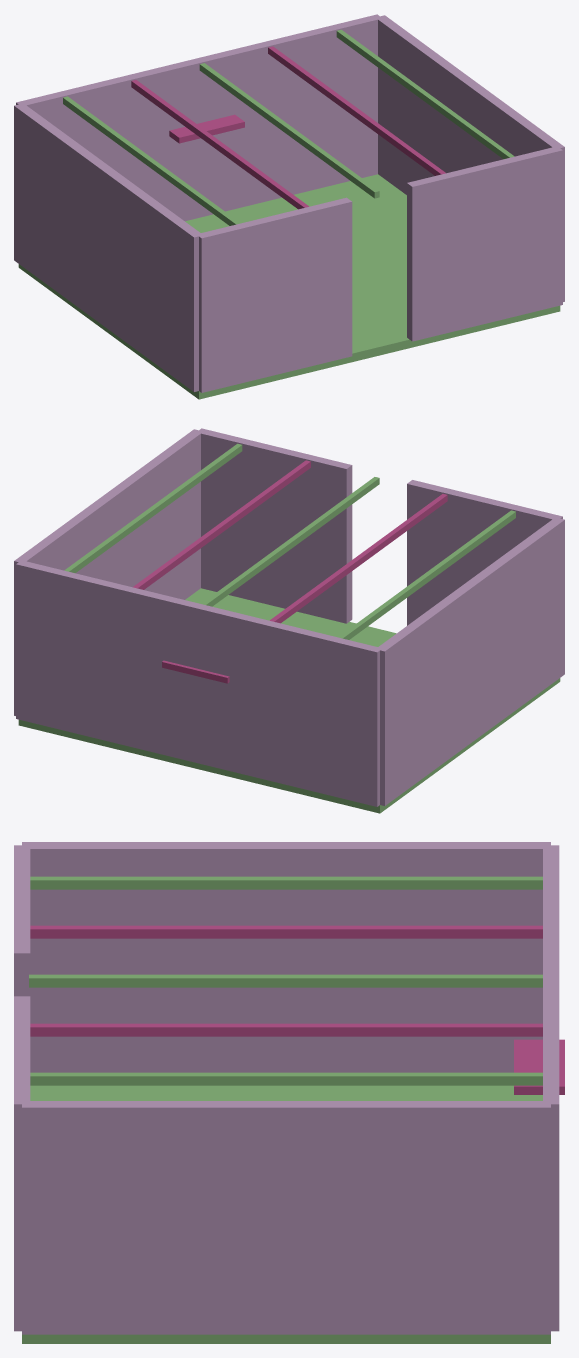
The model's file is bubblecap_house.glb.
The picture shows the model from 3 angles, top to bottom: view 1: azimuth 30°, elevation 25°; view 2: azimuth 150°, elevation 25°; view 3: azimuth 270°, elevation 25°; orthographic projection. The views are drawn at different scales.
Visible parts, largest first — view 1: wall_north, wall_west, wall_south_right, wall_south_left, wall_east, floor, ceiling_beam_0, ceiling_beam_2, ceiling_beam_-1, ceiling_beam_1, ceiling_beam_-2, purpose_mushroom_house; view 2: wall_north, wall_west, wall_south_right, wall_east, wall_south_left, floor, ceiling_beam_0, ceiling_beam_2, ceiling_beam_-1, ceiling_beam_1, ceiling_beam_-2, purpose_mushroom_house; view 3: wall_east, wall_west, floor, ceiling_beam_0, ceiling_beam_-2, ceiling_beam_-1, ceiling_beam_1, ceiling_beam_2, wall_north, wall_south_right, wall_south_left, purpose_mushroom_house.
Boxes of the visible parts, x1,y1,x2,y2 form: wall_north: [16, 14, 382, 221]; wall_west: [14, 104, 203, 391]; wall_south_right: [407, 146, 562, 341]; wall_south_left: [199, 197, 352, 392]; wall_east: [377, 15, 564, 301]; floor: [18, 174, 560, 399]; ceiling_beam_0: [199, 63, 379, 198]; ceiling_beam_2: [336, 29, 514, 159]; ceiling_beam_-1: [131, 80, 308, 209]; ceiling_beam_1: [268, 46, 445, 175]; ceiling_beam_-2: [63, 96, 240, 225]; purpose_mushroom_house: [169, 114, 244, 143]; wall_north: [16, 561, 382, 806]; wall_west: [376, 517, 564, 805]; wall_south_right: [197, 428, 352, 623]; wall_east: [14, 429, 203, 715]; wall_south_left: [407, 480, 562, 625]; floor: [18, 588, 560, 813]; ceiling_beam_0: [201, 477, 379, 606]; ceiling_beam_2: [64, 443, 242, 573]; ceiling_beam_-1: [270, 494, 447, 623]; ceiling_beam_1: [133, 460, 310, 589]; ceiling_beam_-2: [338, 510, 515, 639]; purpose_mushroom_house: [162, 660, 229, 683]; wall_east: [22, 1101, 550, 1334]; wall_west: [22, 842, 550, 1072]; floor: [22, 1085, 550, 1343]; ceiling_beam_0: [29, 974, 542, 987]; ceiling_beam_-2: [30, 876, 542, 889]; ceiling_beam_-1: [30, 925, 542, 938]; ceiling_beam_1: [30, 1023, 542, 1036]; ceiling_beam_2: [30, 1072, 542, 1085]; wall_north: [543, 845, 559, 1331]; wall_south_right: [14, 996, 30, 1331]; wall_south_left: [14, 845, 30, 996]; purpose_mushroom_house: [514, 1039, 564, 1094].
Size of what is drawn, in the model's own units: 13.55 by 5.7 by 11.88.
